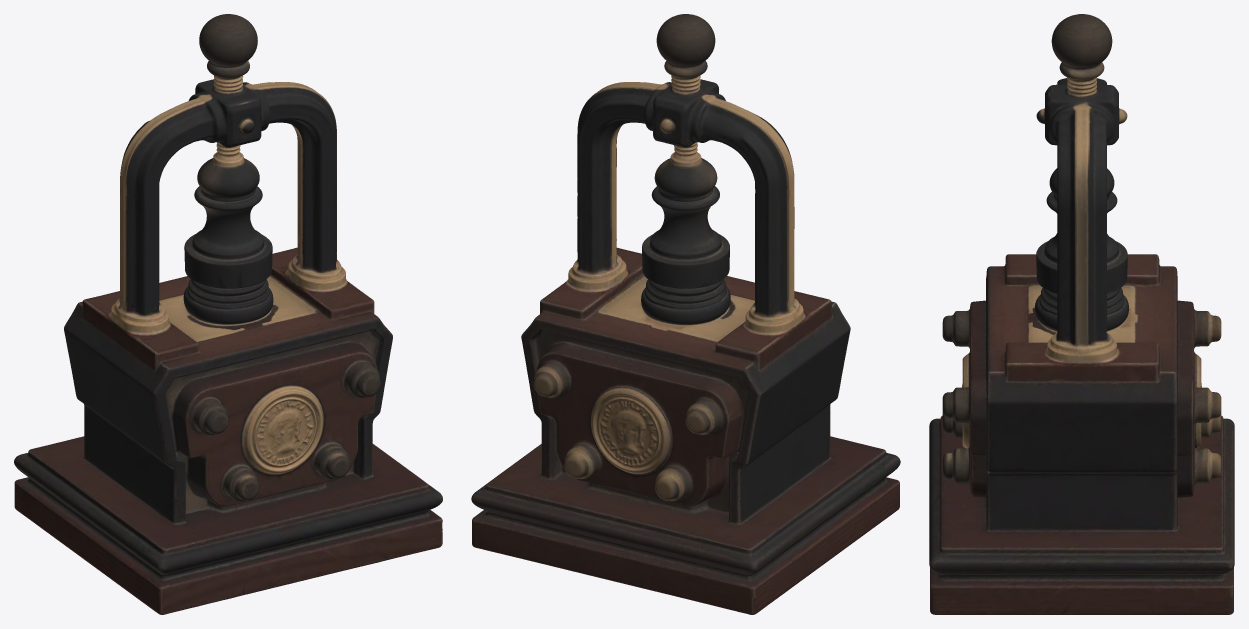
The model's file is sello.glb.
3 views of the same model, side by side, from view 1: azimuth 30°, elevation 25°; view 2: azimuth 150°, elevation 25°; view 3: azimuth 270°, elevation 25° (orthographic). The views are drawn at different scales.
Parts seen in each view (by area): view 1: mesh_node; view 2: mesh_node; view 3: mesh_node.
Boxes of the visible parts, x1=… form: mesh_node: x1=14, y1=14, x2=442, y2=614; mesh_node: x1=471, y1=14, x2=900, y2=614; mesh_node: x1=929, y1=14, x2=1234, y2=614.
Bounding box in the file's own units: 1.11 × 1.9 × 0.9956.
Materials: 1 (1 with a texture image).
